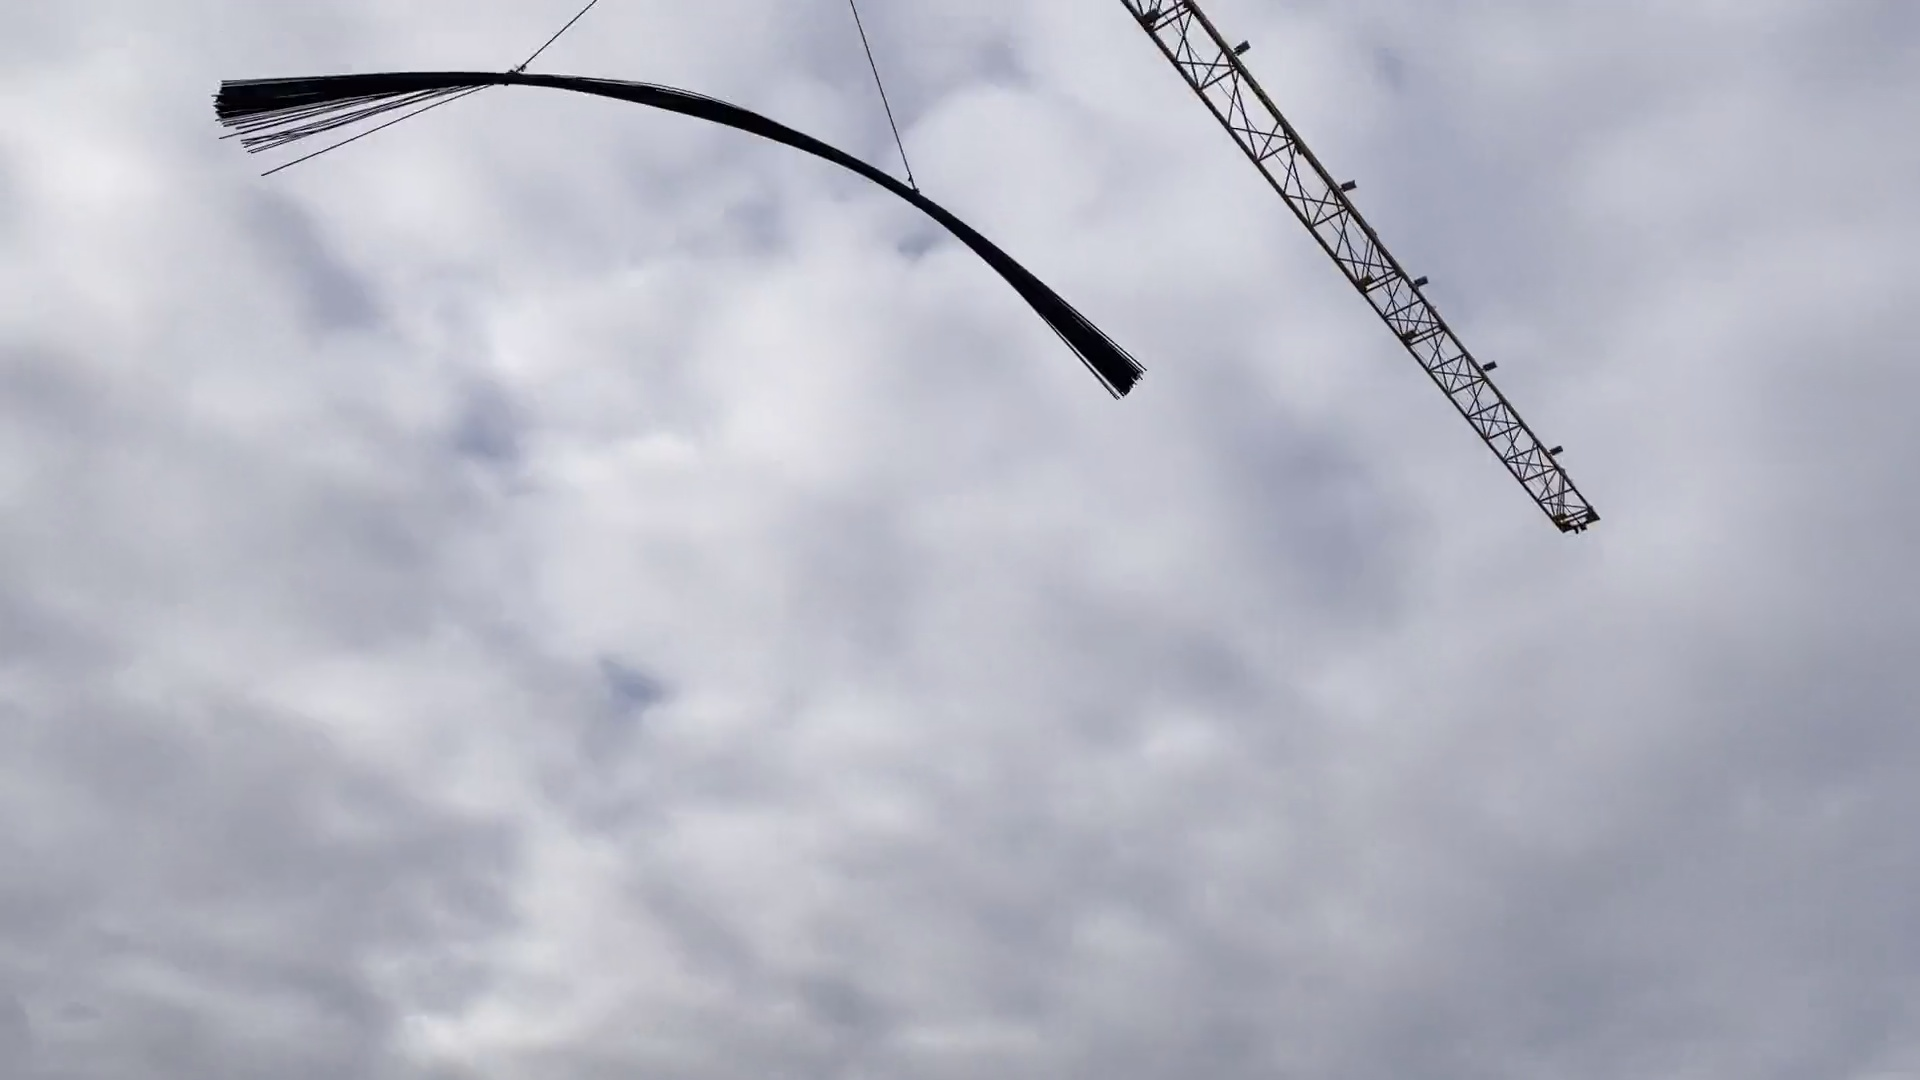rebar: (207, 69, 1159, 401)
